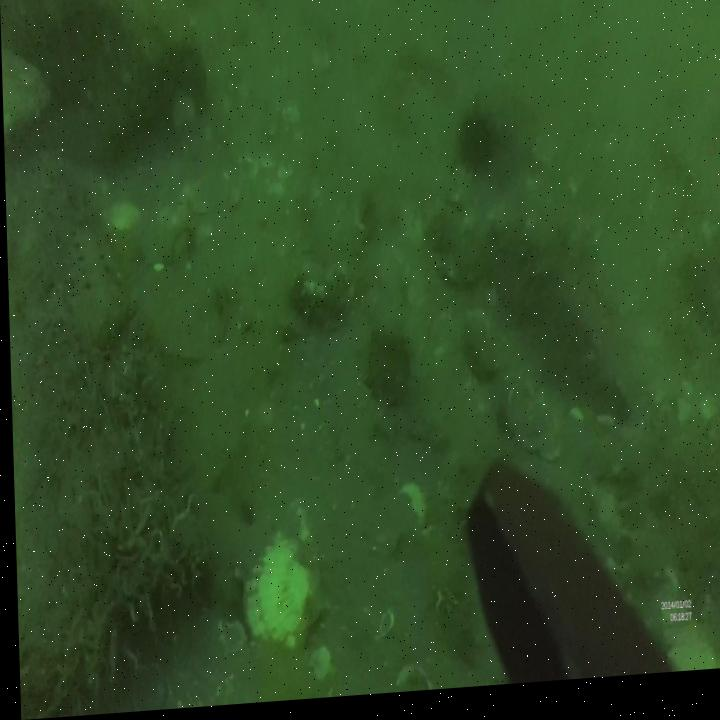echinus: (451, 110, 498, 189)
scallop: (233, 526, 309, 649)
